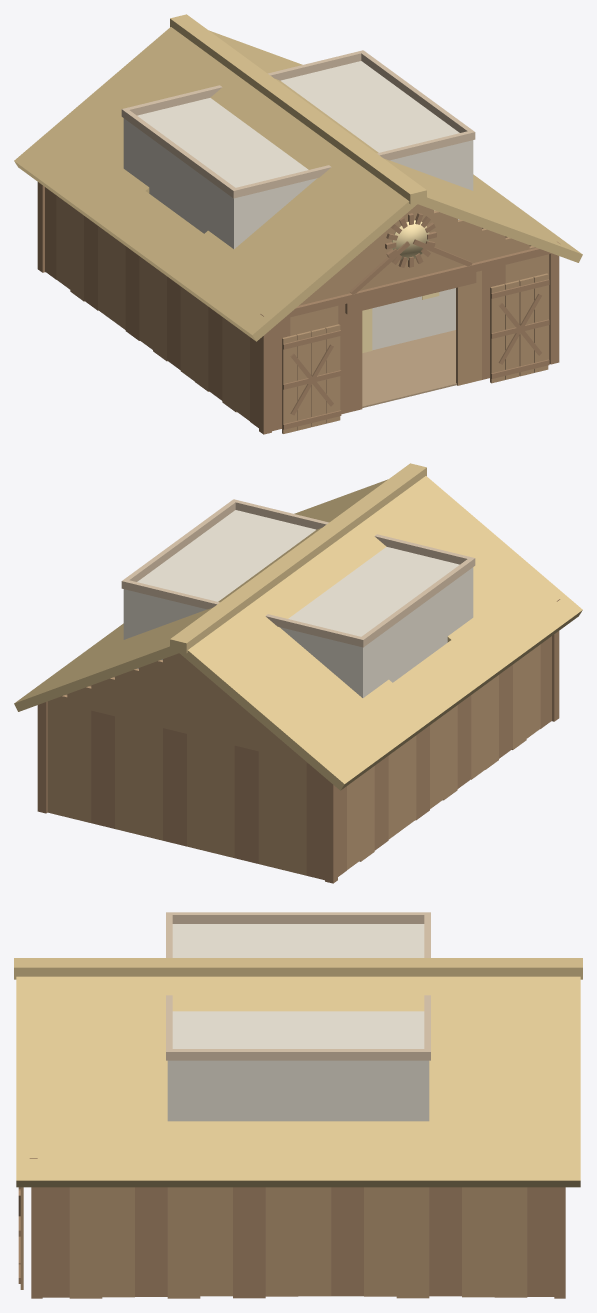
Rendered from bethlehem_props.fbx.
3 views of the same model, one above another, from view 1: azimuth 30°, elevation 25°; view 2: azimuth 150°, elevation 25°; view 3: azimuth 270°, elevation 25° (orthographic). The views are drawn at different scales.
Parts seen in each view (by area): view 1: Walls__Plaster.001, Ridge__Thatch, Floor__Dirt, Board__Plank.030, Beam__Wood, Thatch__Thatch.003, Thatch__Thatch.001, Thatch__Thatch.002, Board__Wood.017, Thatch__Thatch.023, Thatch__Thatch.013, Thatch__Thatch.027 (+65 smaller); view 2: Walls__Plaster.001, Ridge__Thatch, Board__Plank.021, Board__Plank.020, Board__Wood.013, Board__Plank.026, Board__Plank.024, Board__Wood.015, Board__Plank.023, Board__Plank.022, Board__Wood.014, Board__Plank.025 (+62 smaller); view 3: Walls__Plaster.001, Ridge__Thatch, Thatch__Thatch.031, Thatch__Thatch.059, Thatch__Thatch.047, Thatch__Thatch.035, Thatch__Thatch.039, Thatch__Thatch.055, Thatch__Thatch.051, Thatch__Thatch.043, Thatch__Thatch.029, Thatch__Thatch.033 (+39 smaller).
Boxes of the visible parts, x1,y1,x2,y2 form: Walls__Plaster.001: [123, 61, 473, 350]; Ridge__Thatch: [170, 14, 426, 204]; Floor__Dirt: [362, 330, 456, 407]; Board__Plank.030: [456, 270, 481, 385]; Beam__Wood: [260, 241, 559, 318]; Thatch__Thatch.003: [222, 277, 297, 341]; Thatch__Thatch.001: [303, 208, 378, 271]; Thatch__Thatch.002: [264, 243, 337, 306]; Board__Wood.017: [338, 304, 362, 414]; Thatch__Thatch.023: [44, 147, 115, 210]; Thatch__Thatch.013: [133, 212, 203, 275]; Thatch__Thatch.027: [14, 125, 84, 189]; Walls__Plaster.001: [123, 510, 473, 697]; Ridge__Thatch: [170, 463, 426, 653]; Board__Plank.021: [258, 751, 282, 869]; Board__Plank.020: [282, 757, 306, 875]; Board__Wood.013: [234, 745, 258, 863]; Board__Plank.026: [67, 705, 91, 822]; Board__Plank.024: [139, 722, 162, 840]; Board__Wood.015: [91, 710, 114, 828]; Board__Plank.023: [187, 734, 210, 852]; Board__Plank.022: [211, 740, 234, 857]; Board__Wood.014: [163, 728, 186, 846]; Board__Plank.025: [115, 716, 138, 834]; Walls__Plaster.001: [167, 924, 429, 1121]; Ridge__Thatch: [14, 958, 582, 979]; Thatch__Thatch.031: [16, 1126, 88, 1187]; Thatch__Thatch.059: [508, 1126, 580, 1187]; Thatch__Thatch.047: [297, 1126, 369, 1187]; Thatch__Thatch.035: [86, 1126, 158, 1187]; Thatch__Thatch.039: [157, 1126, 228, 1187]; Thatch__Thatch.055: [438, 1126, 510, 1187]; Thatch__Thatch.051: [368, 1126, 439, 1187]; Thatch__Thatch.043: [227, 1126, 299, 1187]; Thatch__Thatch.029: [16, 1020, 88, 1074]; Thatch__Thatch.033: [86, 1020, 158, 1074].
Bounding box in the file's own units: 13.82 × 9.18 × 17.4.
